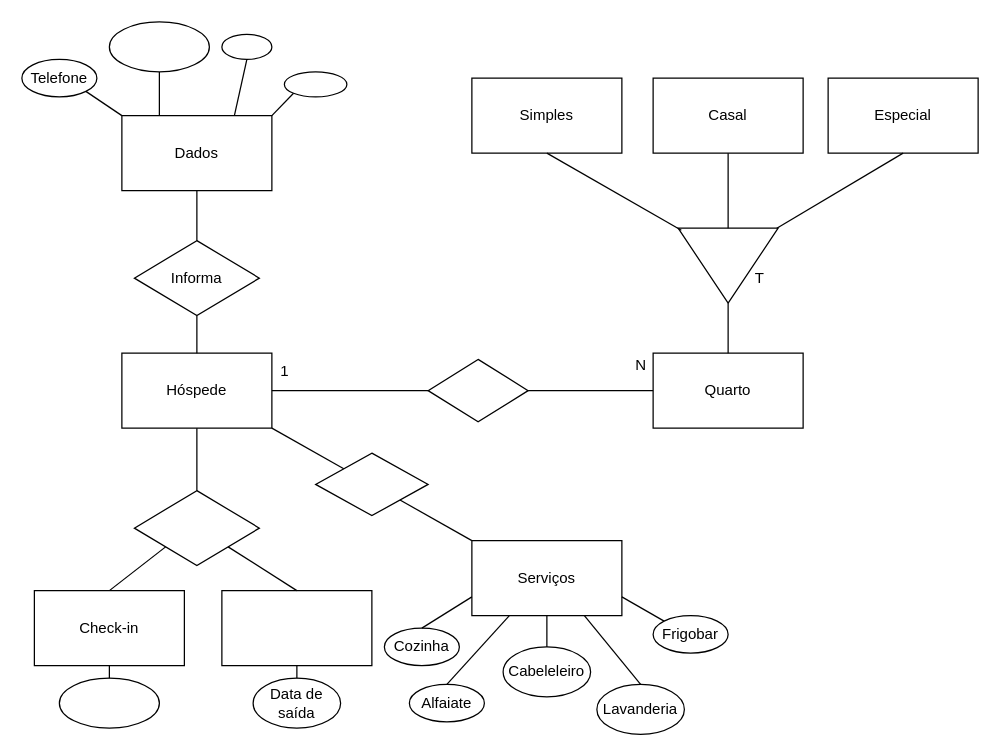
This 1000x756 diagram has some shape labels left out. The shapes that lost their labels are listed below. From the top down, each one's centre as x and y in pixels, then its label:
At (x=158, y=46): "Data de Nascimento".
At (x=246, y=46): "CPF".
At (x=315, y=84): "Nome".
At (x=477, y=390): "Ocupa".
At (x=371, y=484): "Solicita".
At (x=196, y=527): "Realiza".
At (x=296, y=627): "Check-out".
At (x=108, y=702): "Data de entrada".
